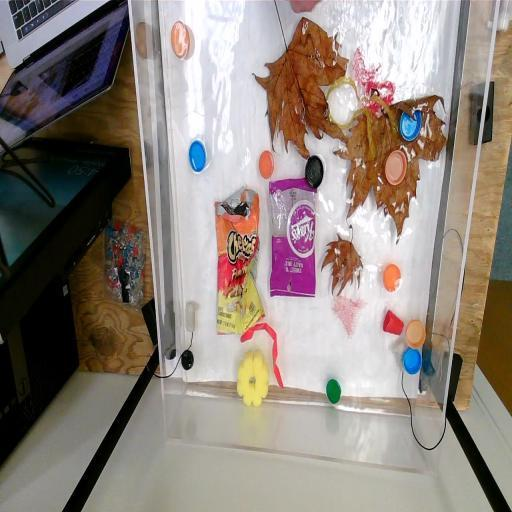Bottle Cap: (396, 100, 426, 145), (168, 18, 194, 66), (382, 150, 408, 190), (302, 151, 326, 194), (320, 373, 344, 408), (189, 134, 207, 176), (380, 263, 404, 294), (401, 347, 424, 379), (256, 146, 276, 180), (406, 314, 426, 348), (178, 347, 196, 374)
Cone Cap: (381, 306, 406, 342)
Leaf: (340, 84, 445, 236), (250, 4, 349, 162), (319, 224, 367, 294)
Netting: (354, 46, 395, 110), (328, 289, 368, 338)
Plastic Bag: (213, 185, 265, 339), (267, 172, 321, 302)
Plastic Strand: (328, 82, 384, 155), (239, 323, 293, 390)
Sponge: (235, 348, 270, 409)
